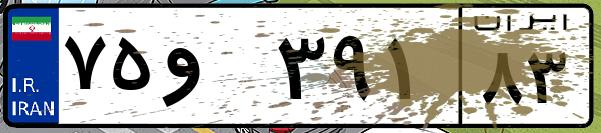1: (385, 28, 445, 110)
3: (270, 28, 330, 110), (525, 38, 570, 115)
5: (110, 28, 158, 98)
7: (57, 26, 110, 100)
8: (475, 38, 525, 113)
9: (330, 28, 385, 110)
و: (158, 20, 270, 120)
